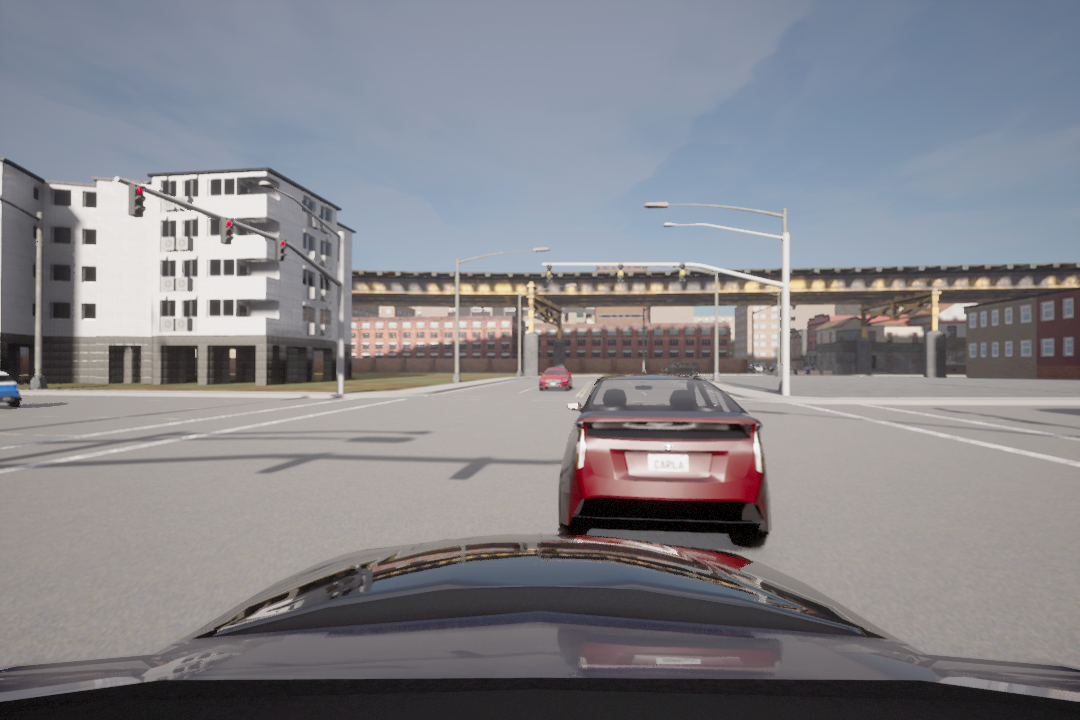TrafficLight: (128, 183, 147, 218), (217, 217, 237, 247), (273, 236, 286, 265), (675, 263, 687, 285), (616, 262, 627, 285), (545, 264, 552, 282)
